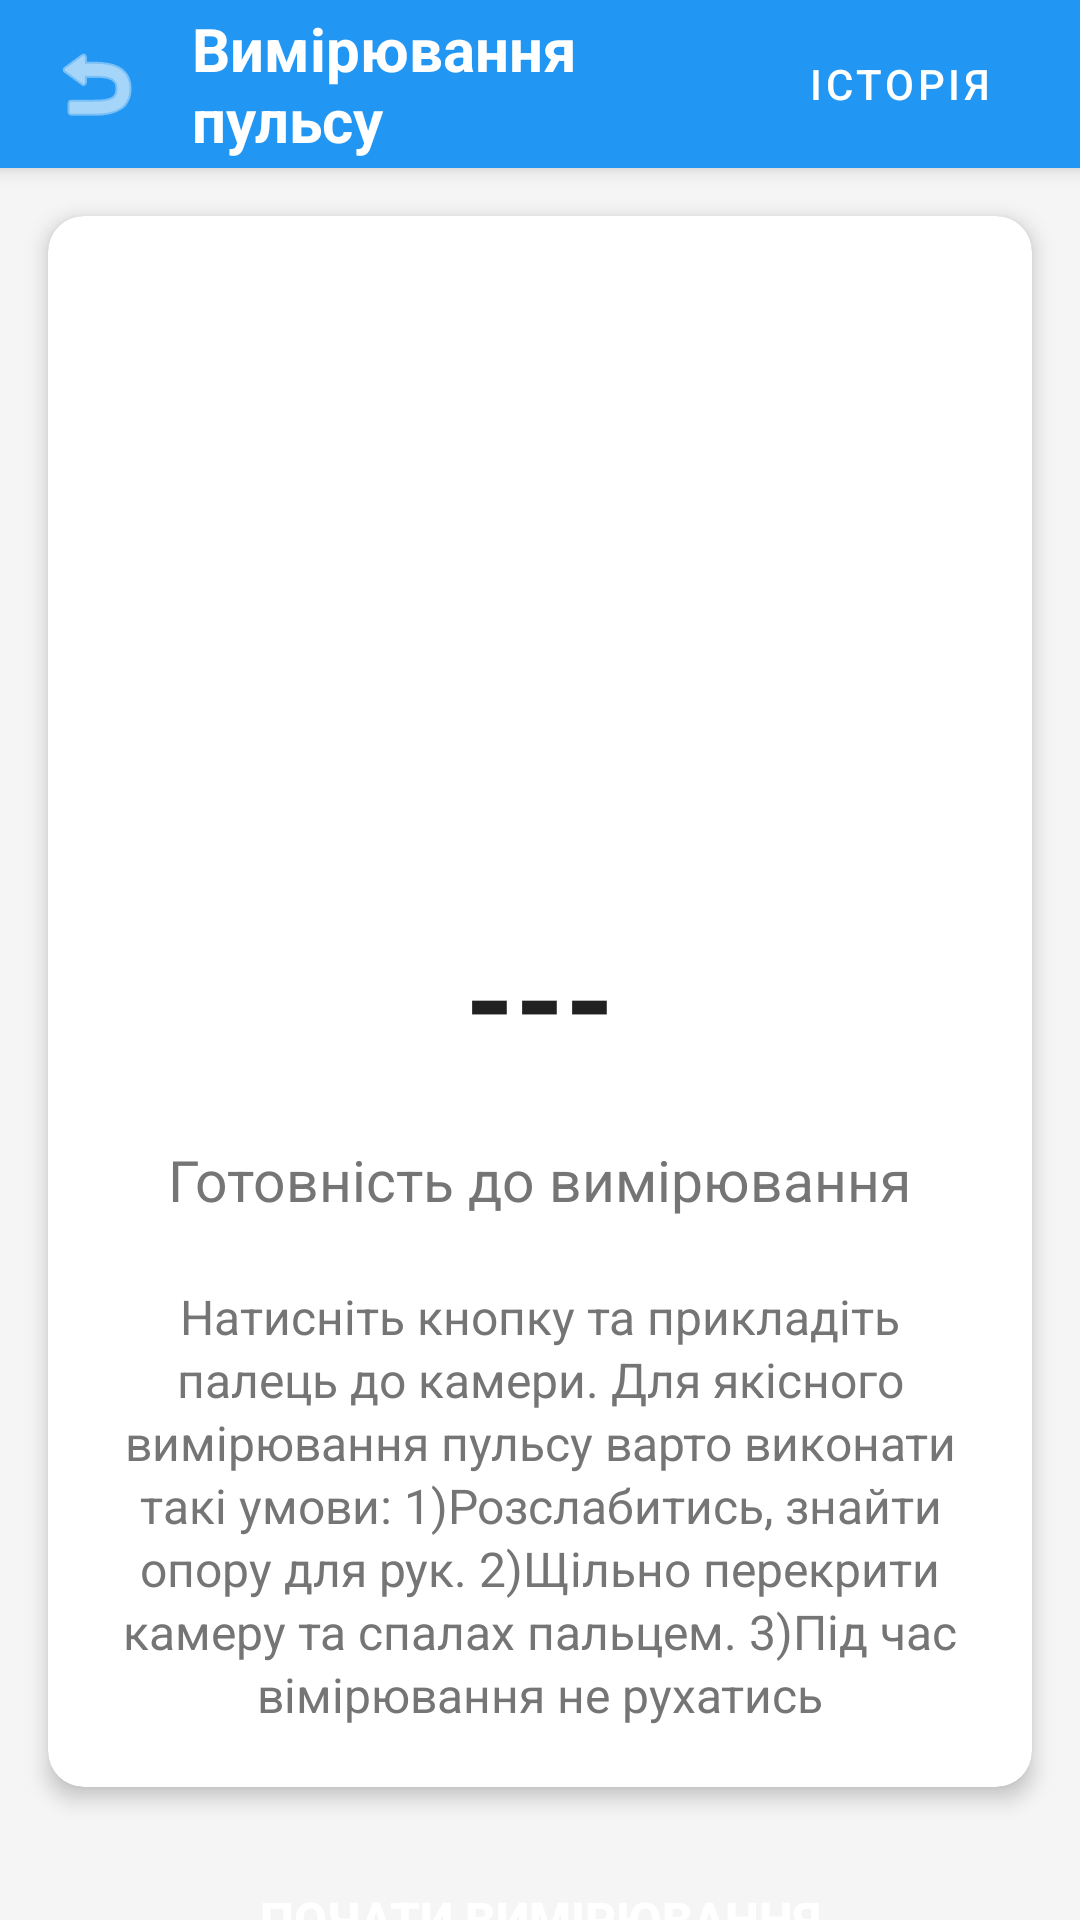

Locate icon controls on the screen. Image size 1080w x 1920h, boxes as (x1, y1, x2, y2).
Назад: (63, 53, 132, 116)
